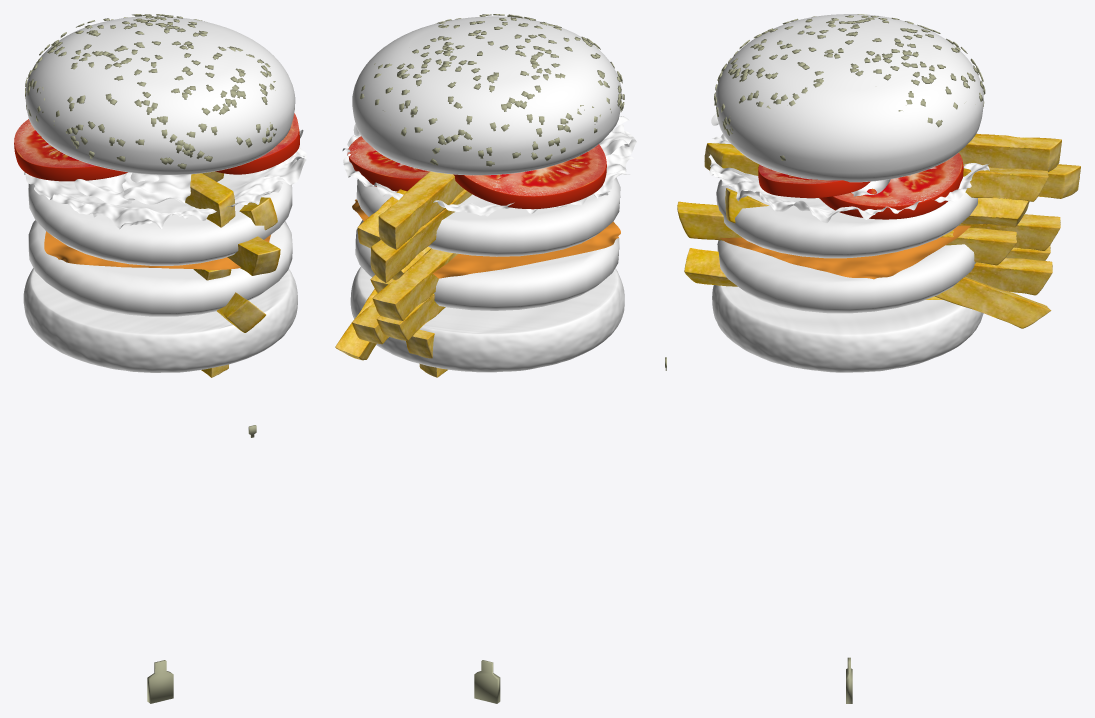
Rendered from burger.glb.
3 renders of one model, left to right at view 1: azimuth 30°, elevation 25°; view 2: azimuth 150°, elevation 25°; view 3: azimuth 270°, elevation 25°, orthographic.
Parts seen in each view (by area): view 1: Cylinder.001, Cylinder, Cylinder.003, Cylinder.004, Plane.002, Cube.016, Cylinder.007, Plane.001, Plane.005, Plane.004, Cylinder.005, Cube; view 2: Cylinder.001, Cube.016, Cylinder, Cylinder.004, Cylinder.003, Cylinder.007, Plane.001, Plane.002, Cylinder.008, Cube, Plane.004; view 3: Cylinder.001, Cube.016, Cylinder, Cylinder.003, Cylinder.004, Cylinder.008, Plane.001, Plane.002, Cylinder.005.
Boxes of the visible parts, left/top/right/bottom form: Cylinder.001: left=25, top=16, right=295, bottom=174; Cylinder: left=23, top=268, right=297, bottom=372; Cylinder.003: left=28, top=220, right=292, bottom=316; Cylinder.004: left=28, top=182, right=292, bottom=265; Plane.002: left=24, top=129, right=306, bottom=229; Cube.016: left=185, top=171, right=280, bottom=377; Cylinder.007: left=14, top=119, right=127, bottom=181; Plane.001: left=44, top=231, right=270, bottom=269; Plane.005: left=122, top=172, right=191, bottom=205; Plane.004: left=74, top=173, right=159, bottom=204; Cylinder.005: left=215, top=113, right=299, bottom=174; Cube: left=147, top=660, right=173, bottom=703; Cylinder.001: left=352, top=16, right=621, bottom=175; Cube.016: left=335, top=171, right=472, bottom=377; Cylinder: left=350, top=267, right=624, bottom=372; Cylinder.004: left=356, top=177, right=620, bottom=256; Cylinder.003: left=355, top=220, right=619, bottom=310; Cylinder.007: left=453, top=144, right=606, bottom=209; Plane.001: left=352, top=199, right=620, bottom=278; Plane.002: left=342, top=124, right=636, bottom=216; Cylinder.008: left=347, top=136, right=429, bottom=191; Cube: left=474, top=660, right=500, bottom=703; Plane.004: left=599, top=124, right=631, bottom=155; Cylinder.001: left=715, top=14, right=983, bottom=182; Cube.016: left=677, top=133, right=1080, bottom=328; Cylinder: left=712, top=285, right=983, bottom=372; Cylinder.003: left=717, top=240, right=975, bottom=313; Cylinder.004: left=716, top=179, right=977, bottom=258; Cylinder.008: left=819, top=153, right=963, bottom=219; Plane.001: left=720, top=225, right=970, bottom=279; Plane.002: left=708, top=131, right=989, bottom=222; Cylinder.005: left=758, top=165, right=870, bottom=198.
Size of what is drawn, in the model's own units: 2.2 by 5.5 by 3.16.
11 materials, 3 textured.
